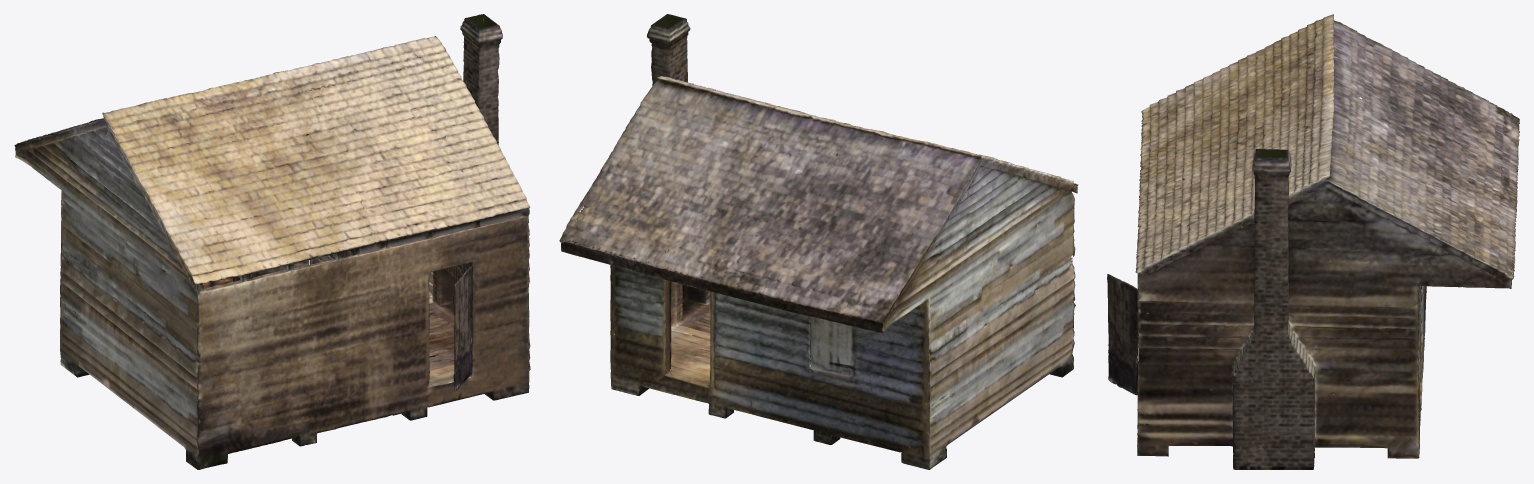
File: historic-log-cabin.glb
3 renders of one model, left to right at view 1: azimuth 30°, elevation 25°; view 2: azimuth 150°, elevation 25°; view 3: azimuth 270°, elevation 25°, orthographic.
Bounding box in the file's own units: 6.89 × 5.71 × 6.81.
1 material, 1 textured.
